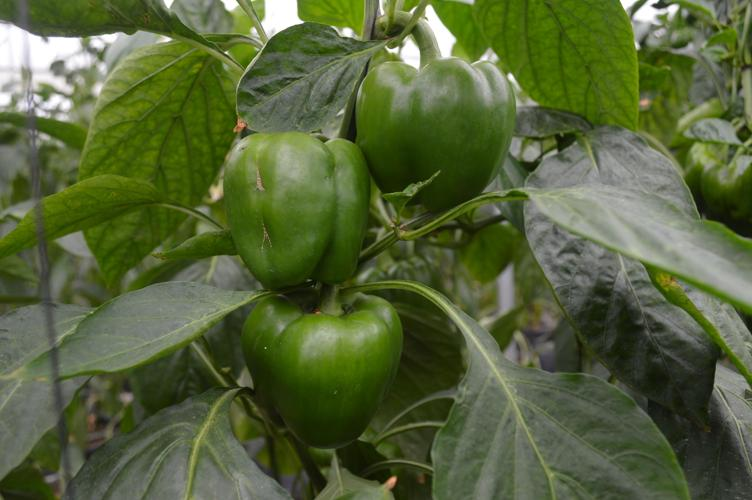BellPepper: (240, 296, 404, 445), (351, 60, 511, 207), (216, 136, 369, 288)
